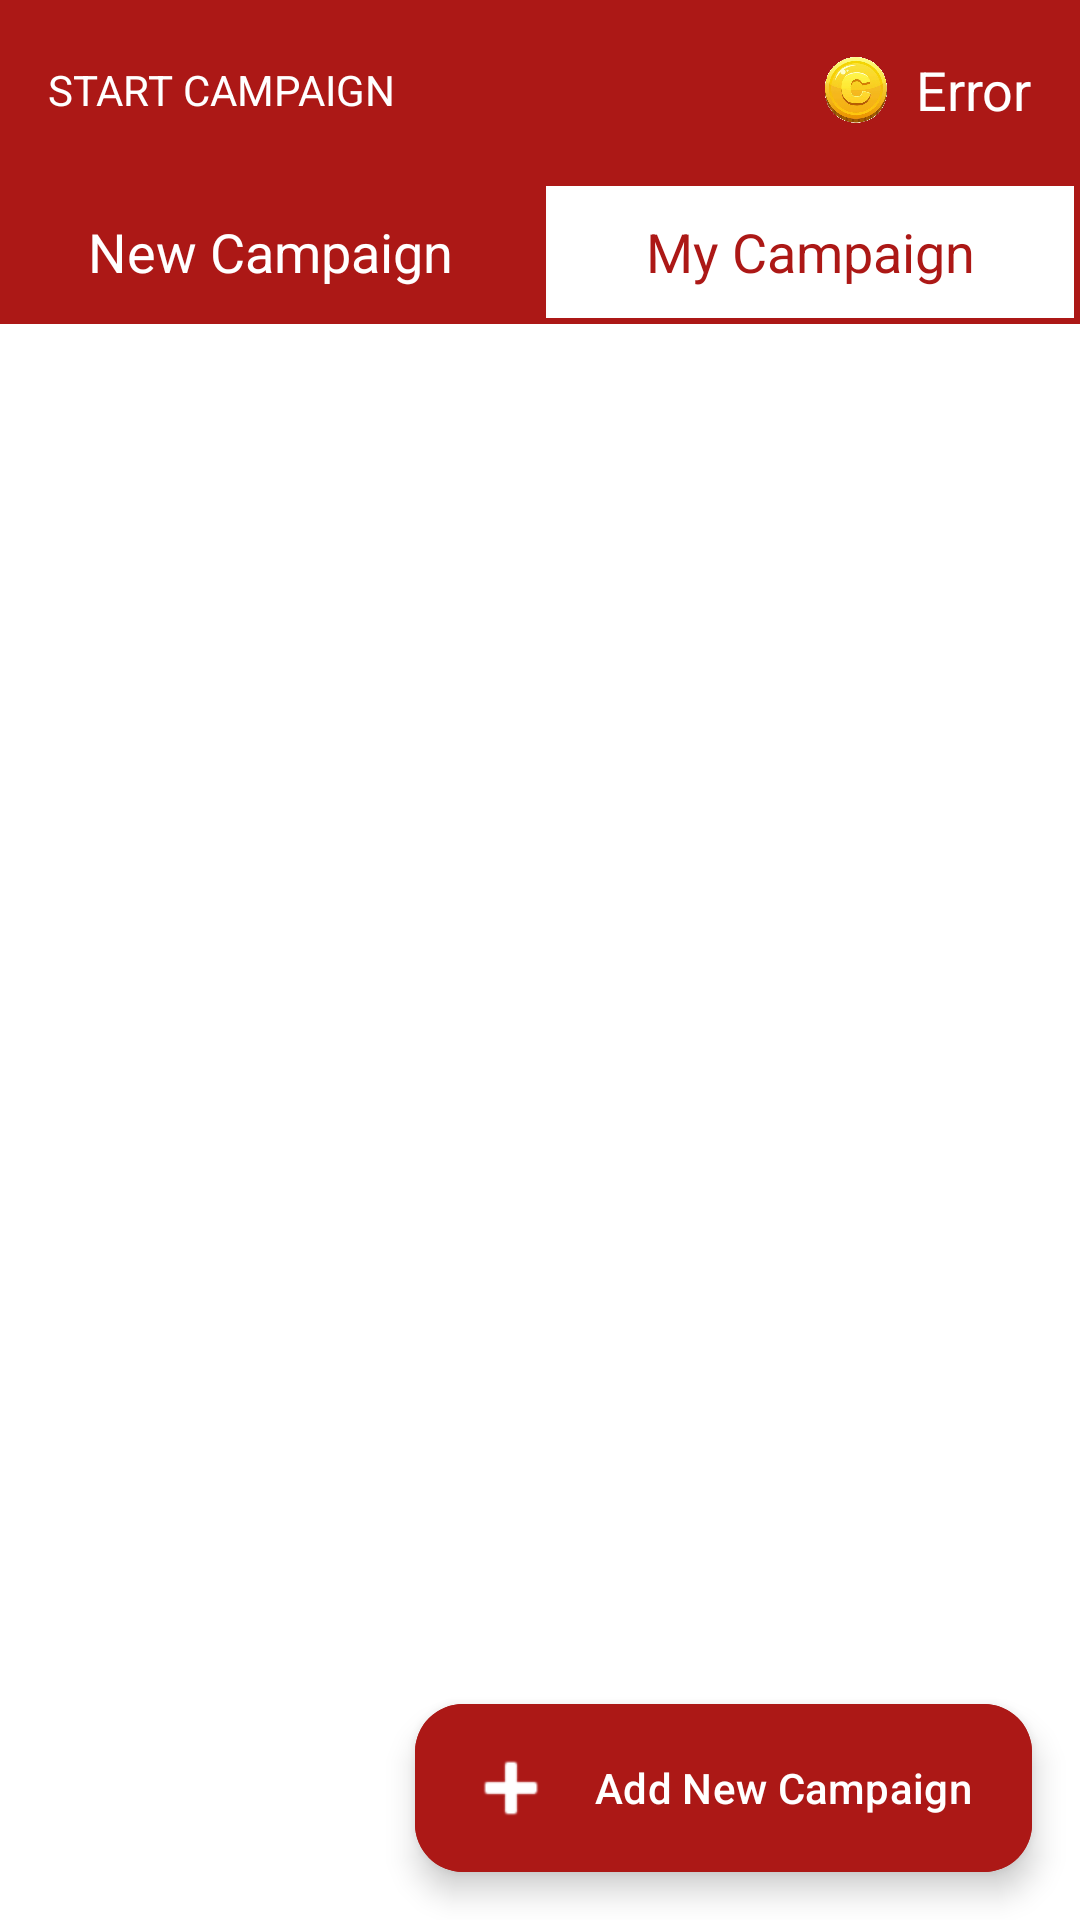

Where icons sit on this 1080 x 1920 app screen, as (x1, y1, x2, y2):
coin: (825, 57, 887, 123)
